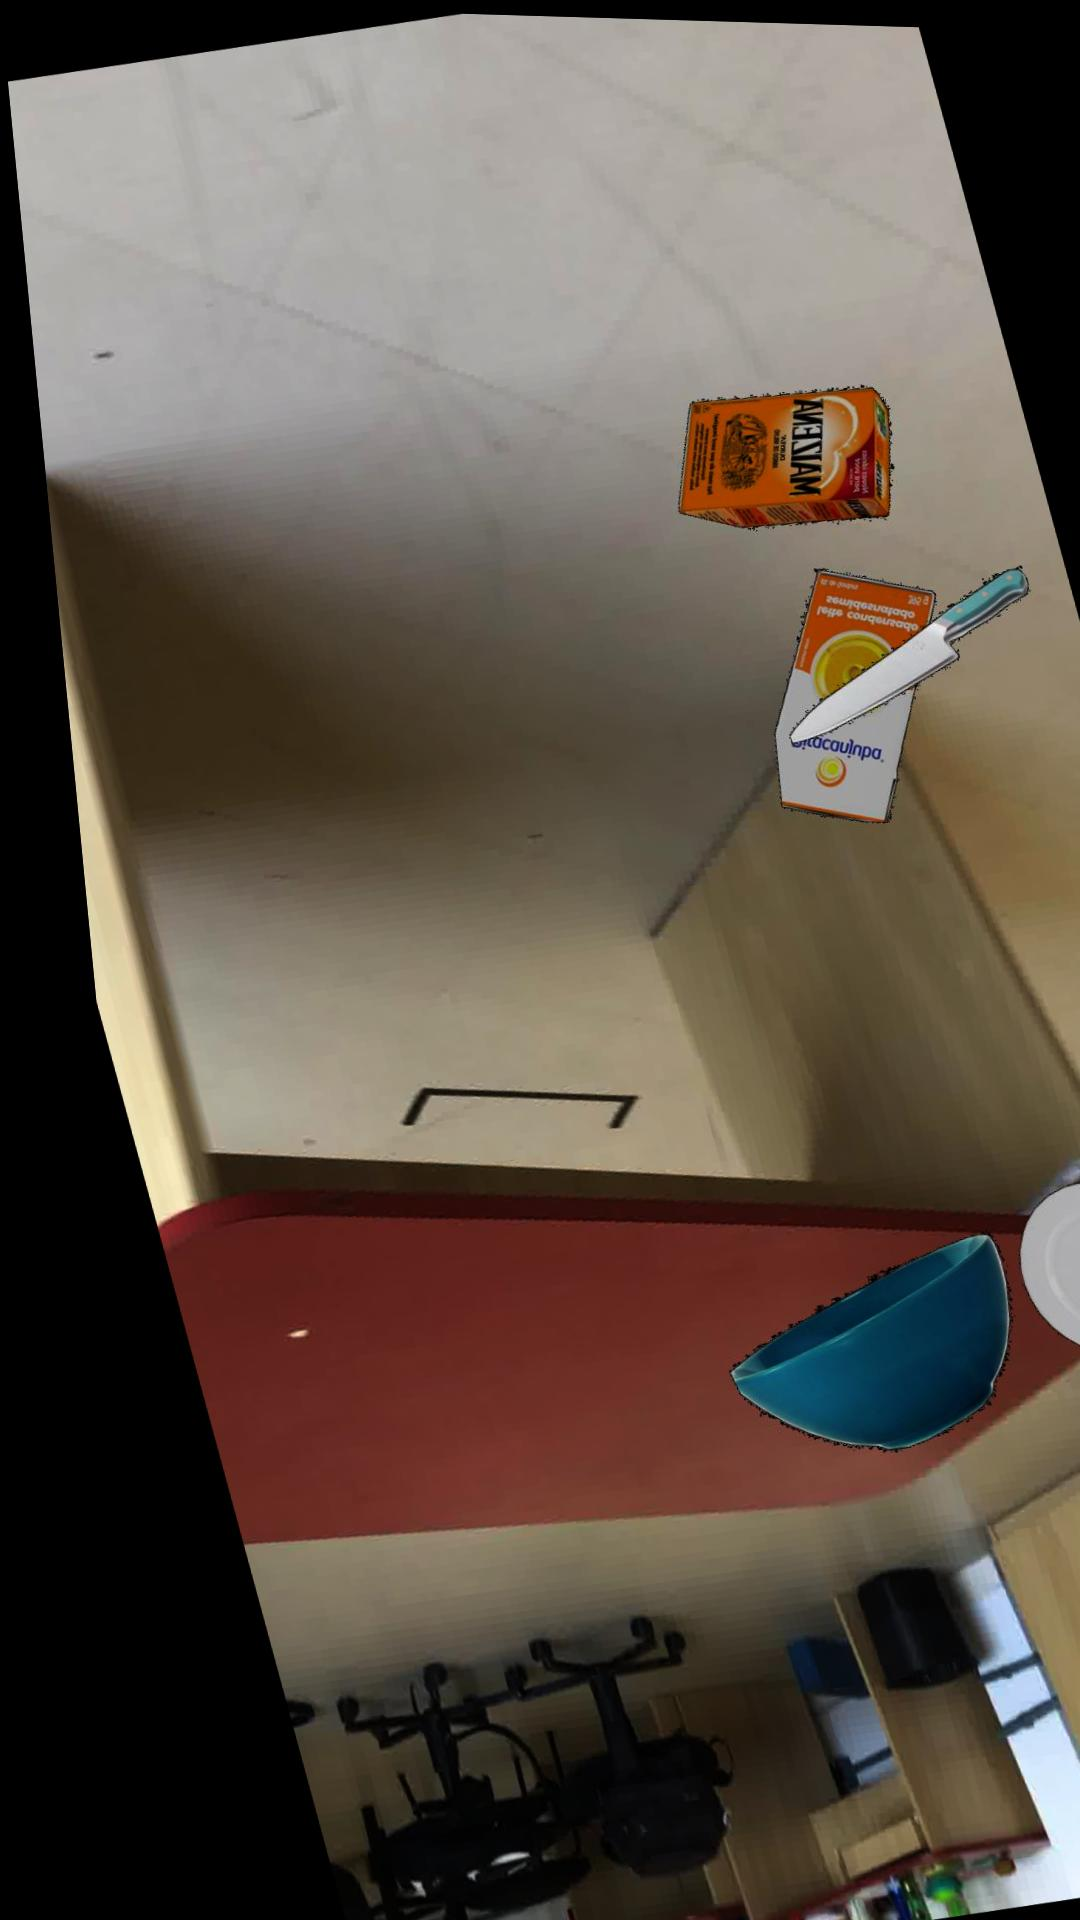bowl: (703, 1228, 988, 1448)
knife: (775, 562, 1018, 740)
plate: (994, 1175, 1080, 1349)
